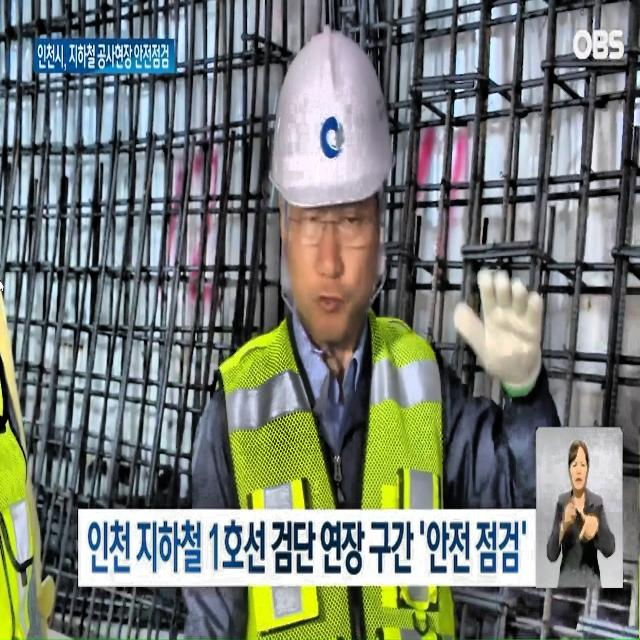safety_helmet: (264, 25, 401, 202)
safety_jacket: (222, 342, 478, 640)
